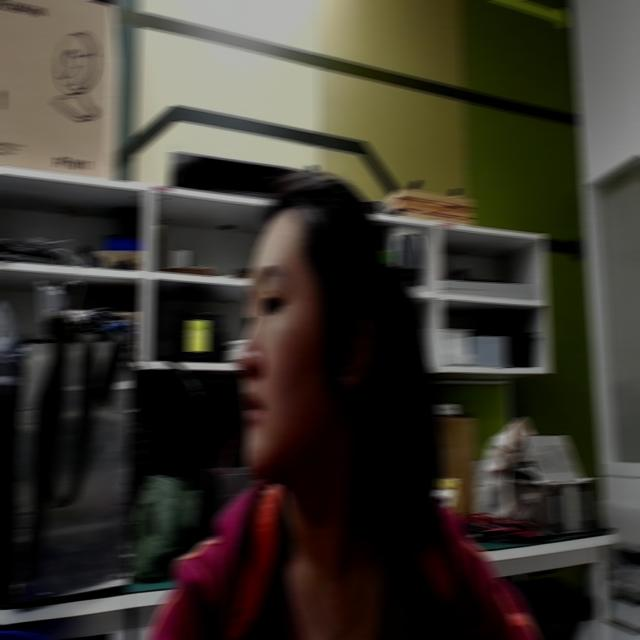Without Helmet: (224, 144, 453, 553)
